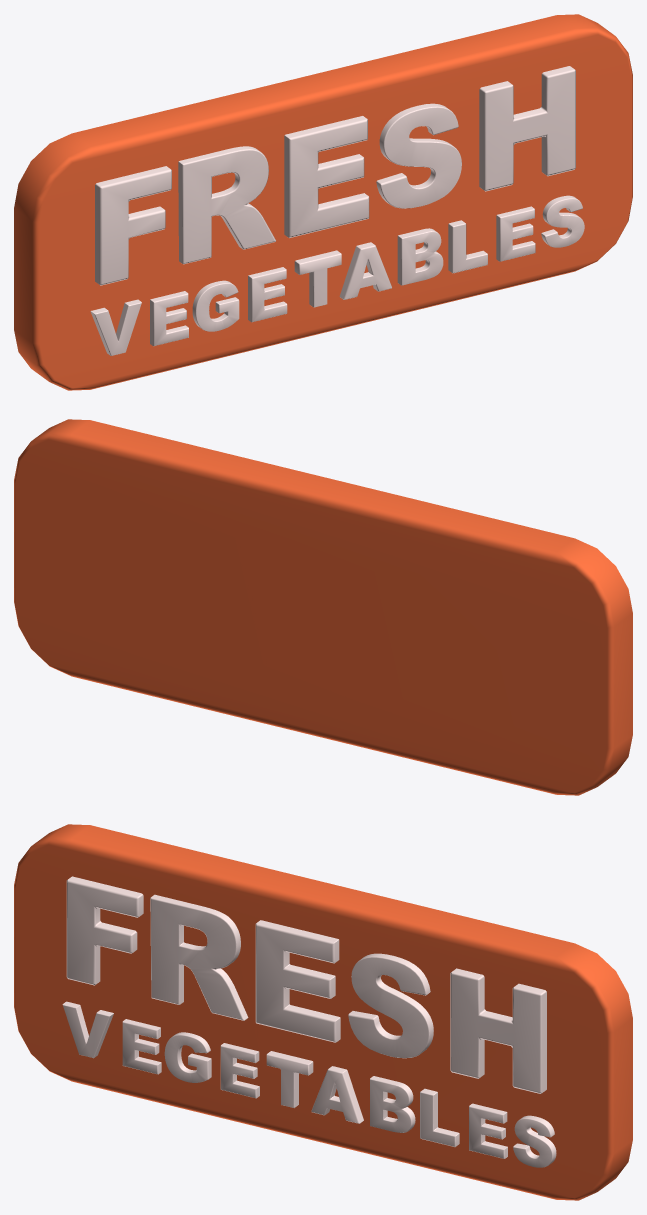
Rendered from Store_19_Fresh_Vegetable_Sign_1.glb.
3 views of the same model, one above another, from view 1: azimuth 30°, elevation 25°; view 2: azimuth 150°, elevation 25°; view 3: azimuth 330°, elevation 25° (orthographic).
Parts seen in each view (by area): view 1: Store_19_Fresh_Vegetable_Sign_1; view 2: Store_19_Fresh_Vegetable_Sign_1; view 3: Store_19_Fresh_Vegetable_Sign_1.
Boxes of the visible parts, x1=… form: Store_19_Fresh_Vegetable_Sign_1: x1=14, y1=14, x2=632, y2=390; Store_19_Fresh_Vegetable_Sign_1: x1=14, y1=419, x2=632, y2=795; Store_19_Fresh_Vegetable_Sign_1: x1=14, y1=824, x2=632, y2=1200.
Bounding box in the file's own units: 1.07 × 0.415 × 0.0915.
1 material, 1 textured.
